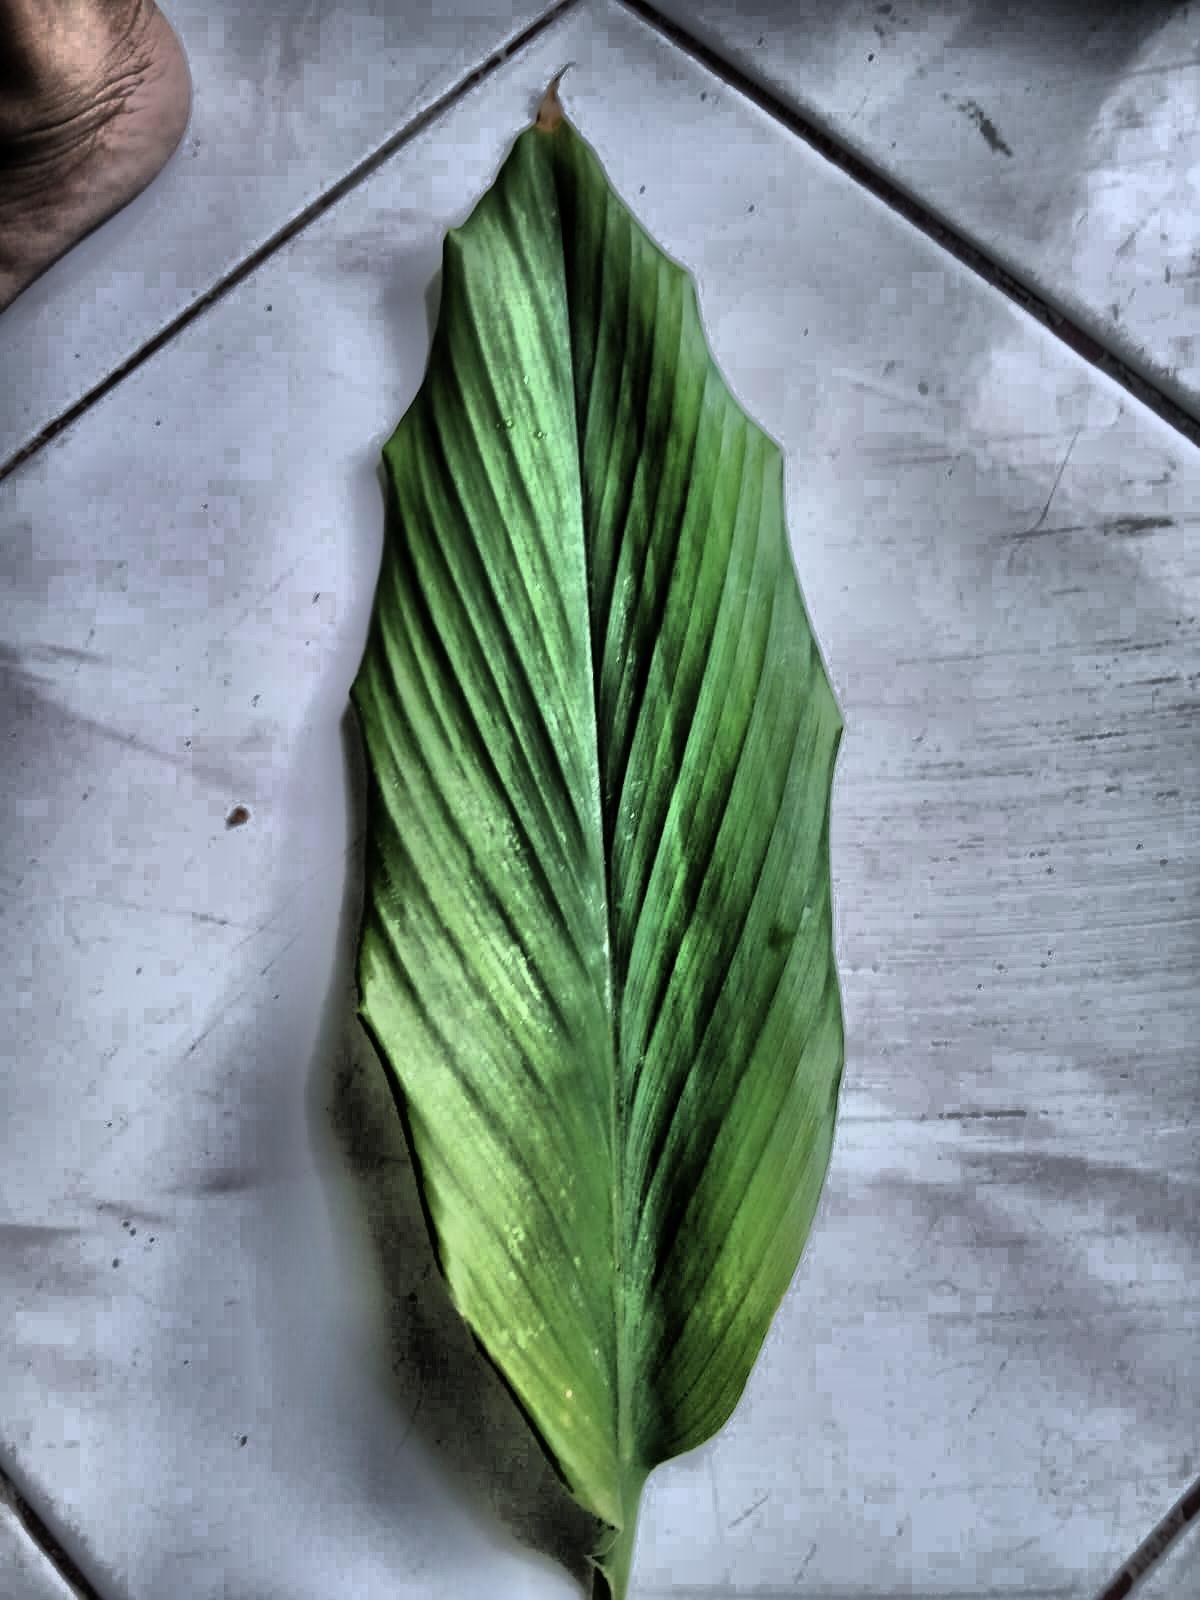daun kunyit: (352, 94, 843, 1599)
